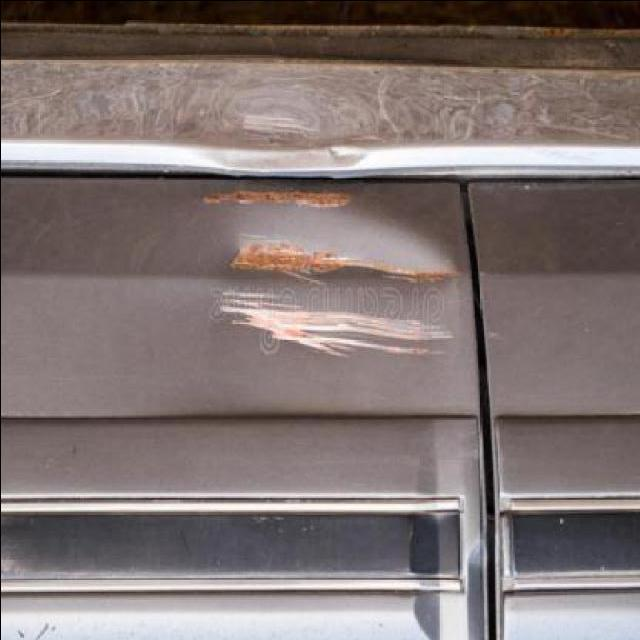RunningBoard-Dent: (187, 74, 397, 179)
doorouter-dent: (186, 182, 466, 364)
